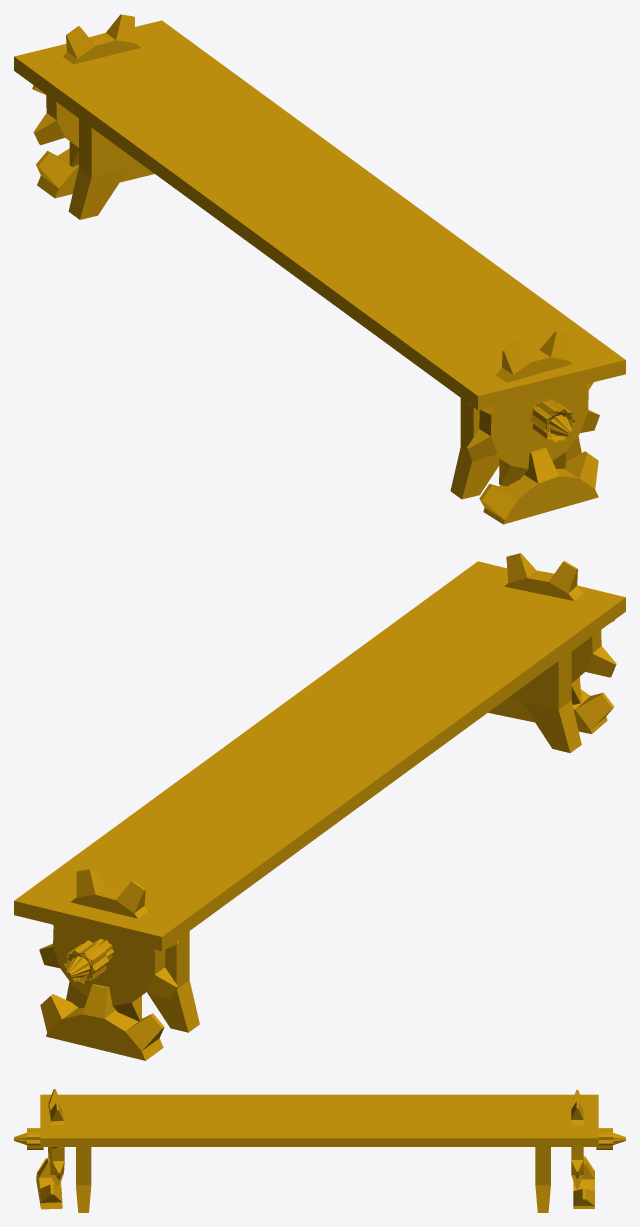
Rendered from Bench_02.dae.
The picture shows the model from 3 angles, top to bottom: view 1: azimuth 30°, elevation 25°; view 2: azimuth 150°, elevation 25°; view 3: azimuth 270°, elevation 25°; orthographic projection. The views are drawn at different scales.
Visible parts, largest first — view 1: Cylinder_001; view 2: Cylinder_001; view 3: Cylinder_001.
Boxes of the visible parts, <box> form: Cylinder_001: <box>14,14,625,524</box>; Cylinder_001: <box>14,553,625,1060</box>; Cylinder_001: <box>14,1089,625,1212</box>.
Size of the model in its own units: 14.57 by 86.48 by 15.39.
